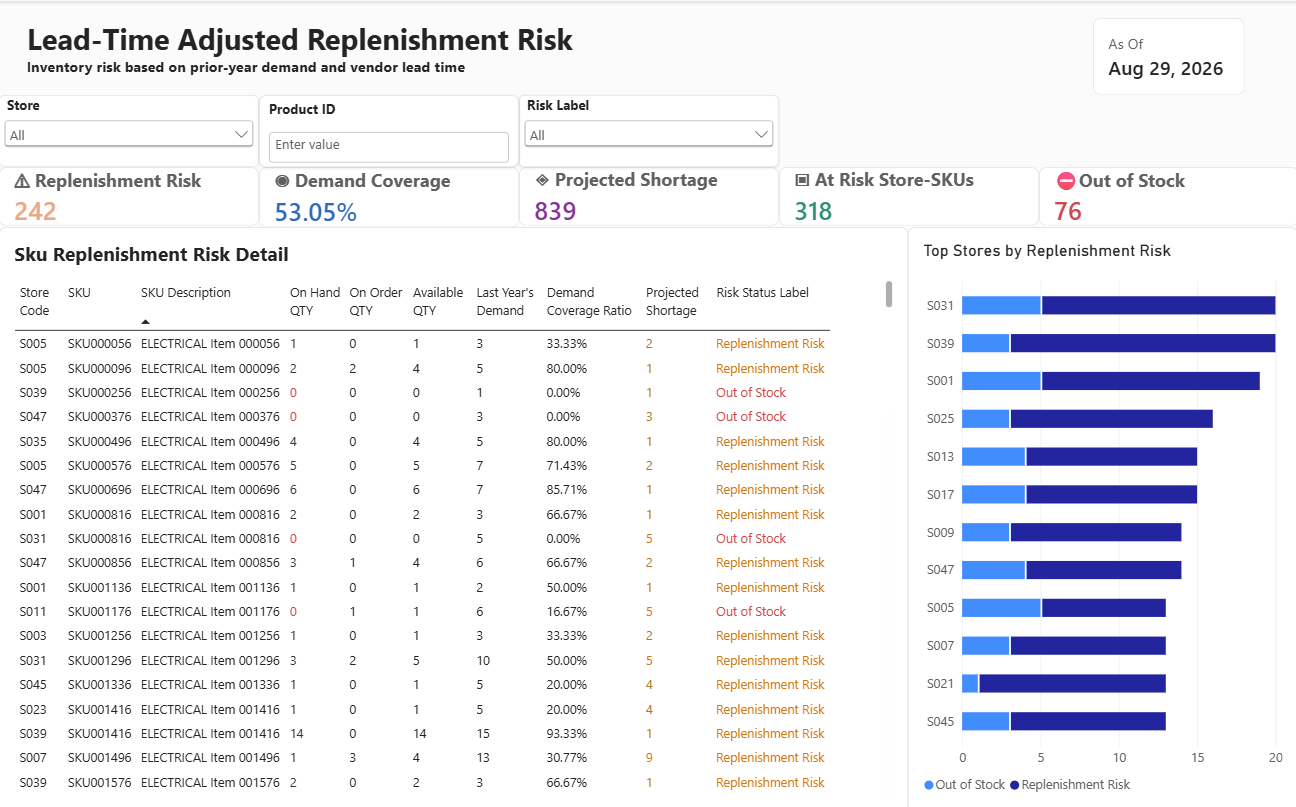

The page's visual inventory and layout, read from the dashboard file:
{"tool":"powerbi","page":{"name":"Page 1","canvas":[1440,900],"ordinal":0},"visuals":[{"type":"cardVisual","fields":{"Data":["ReplenishmentRisk.At Risk Store-SKUs"]},"box":[864.5,184,288.2,65.4],"z":0},{"type":"cardVisual","fields":{"Data":["ReplenishmentRisk.Out of Stock"]},"box":[1152.7,184,288.2,65.4],"z":1000},{"type":"cardVisual","fields":{"Data":["ReplenishmentRisk.Replenishment Risk"]},"box":[0,184,288.2,65.4],"z":2000},{"type":"cardVisual","fields":{"Data":["ReplenishmentRisk.Projected Shortage Units"]},"box":[576.4,184,288.2,65.4],"z":3000},{"type":"barChart","title":"Top Stores by Replenishment Risk","fields":{"Category":["ReplenishmentRisk.StoreCode"],"Series":["ReplenishmentRisk.Risk Status Label"],"Y":["ReplenishmentRisk.At Risk Store-SKUs"]},"box":[1007.5,250.5,432.3,649.5],"z":4000},{"type":"cardVisual","fields":{"Data":["ReplenishmentRisk.Demand Coverage"]},"box":[288.2,184,288.2,67.6],"z":5000},{"type":"tableEx","title":"Sku Replenishment Risk Detail","fields":{"Values":["ReplenishmentRisk.StoreCode","ReplenishmentRisk.SKU","ReplenishmentRisk.ProductName","ReplenishmentRisk.OnHandQuantity","ReplenishmentRisk.OnOrderQuantity","ReplenishmentRisk.available_quantity","ReplenishmentRisk.last_year_demand","ReplenishmentRisk.demand_coverage_ratio","ReplenishmentRisk.projected_shortage_qty","ReplenishmentRisk.Risk Status Label"]},"box":[0,250.5,1007.5,649.5],"z":6000},{"type":"slicer","fields":{"Values":["ReplenishmentRisk.StoreCode"]},"box":[0,104.2,288.2,79.8],"z":7000},{"type":"slicer","fields":{"Values":["ReplenishmentRisk.Risk Status Label"]},"box":[576.4,104.2,288.2,79.8],"z":8000},{"type":"textSlicer","title":"Product ID","box":[288.2,104.2,288.2,79.8],"z":9000},{"type":"textbox","box":[31,18.8,625.1,85.3],"z":10000},{"type":"cardVisual","fields":{"Data":["ReplenishmentRisk.As Of Label"]},"box":[1212.6,18.8,168.5,85.3],"z":11000}]}

Visuals, with their boxes in screenshot pixels (x1, y1, x2, y2), scaled from the page's 1440x900 canvas onto the 1296x807 screenshot:
cardVisual - ReplenishmentRisk.At Risk Store-SKUs: region(778, 165, 1037, 224)
cardVisual - ReplenishmentRisk.Out of Stock: region(1037, 165, 1295, 224)
cardVisual - ReplenishmentRisk.Replenishment Risk: region(0, 165, 259, 224)
cardVisual - ReplenishmentRisk.Projected Shortage Units: region(519, 165, 778, 224)
"Top Stores by Replenishment Risk" barChart: region(907, 225, 1295, 806)
cardVisual - ReplenishmentRisk.Demand Coverage: region(259, 165, 519, 226)
"Sku Replenishment Risk Detail" tableEx: region(0, 225, 907, 806)
slicer - ReplenishmentRisk.StoreCode: region(0, 93, 259, 165)
slicer - ReplenishmentRisk.Risk Status Label: region(519, 93, 778, 165)
"Product ID" textSlicer: region(259, 93, 519, 165)
textbox: region(28, 17, 590, 93)
cardVisual - ReplenishmentRisk.As Of Label: region(1091, 17, 1243, 93)
